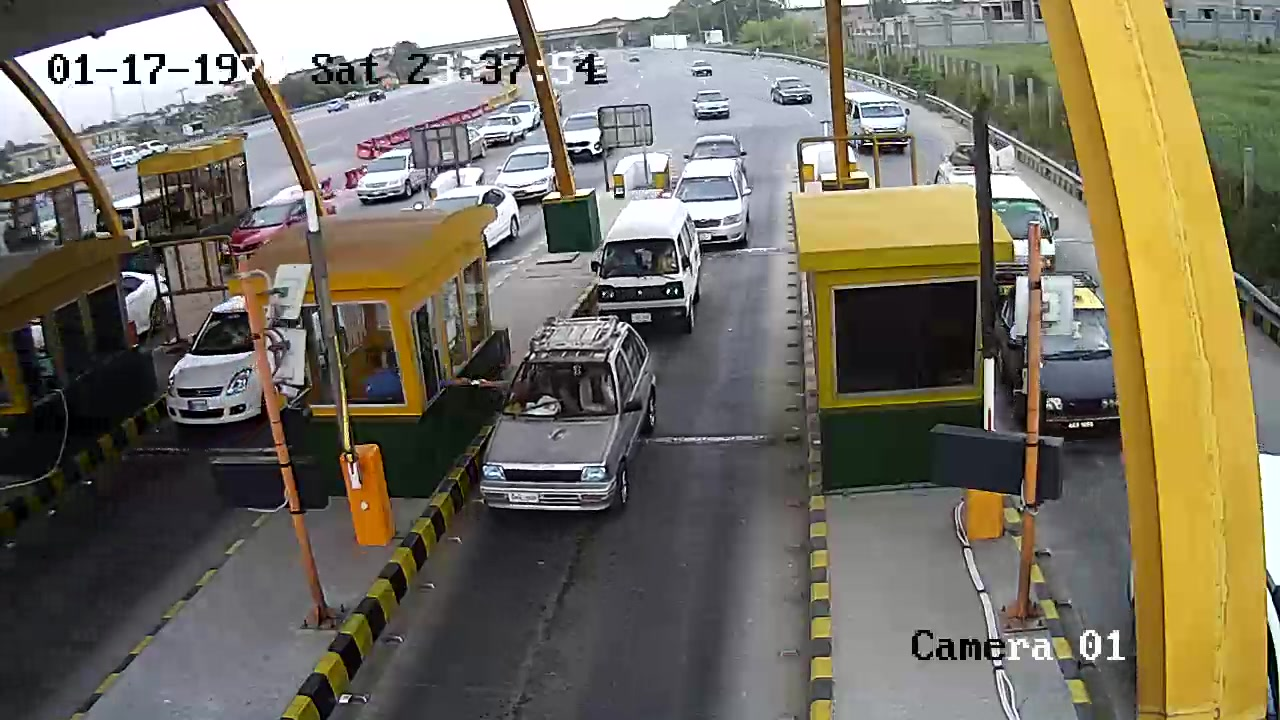F1: (474, 308, 678, 525), (598, 191, 696, 346)
